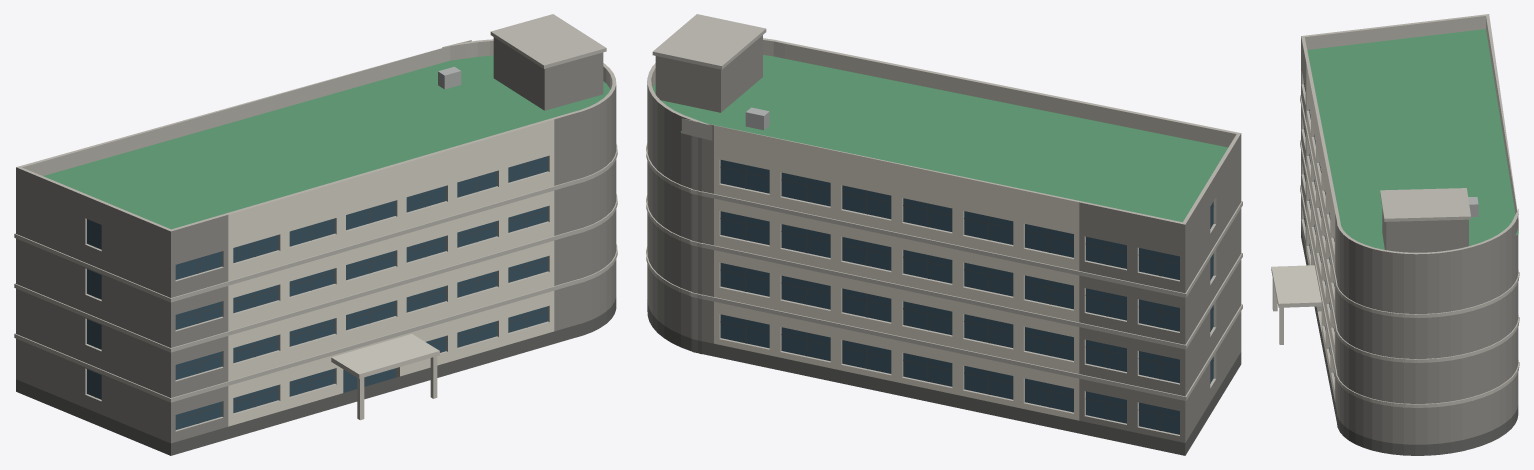
3 views of the same model, side by side, from view 1: azimuth 30°, elevation 25°; view 2: azimuth 150°, elevation 25°; view 3: azimuth 270°, elevation 25° (orthographic). The views are drawn at different scales.
Parts seen in each view (by area): view 1: wing6__brick, wing6__wall-plaster, wing6__roof, wing6__trim-concrete, wing6__glass, wing6__base-stone, wing6__canopy-concrete, wing6__frame; view 2: wing6__wall-plaster, wing6__brick, wing6__roof, wing6__glass, wing6__trim-concrete, wing6__base-stone, wing6__frame; view 3: wing6__brick, wing6__roof, wing6__trim-concrete, wing6__wall-plaster, wing6__base-stone, wing6__canopy-concrete.
Boxes of the visible parts, x1=… form: wing6__brick: x1=16, y1=37, x2=616, y2=443; wing6__wall-plaster: x1=228, y1=119, x2=554, y2=426; wing6__roof: x1=43, y1=55, x2=610, y2=229; wing6__trim-concrete: x1=14, y1=14, x2=617, y2=431; wing6__glass: x1=87, y1=156, x2=547, y2=429; wing6__base-stone: x1=16, y1=297, x2=616, y2=455; wing6__canopy-concrete: x1=331, y1=334, x2=439, y2=420; wing6__frame: x1=87, y1=162, x2=548, y2=423; wing6__wall-plaster: x1=714, y1=125, x2=1079, y2=420; wing6__brick: x1=647, y1=35, x2=1241, y2=442; wing6__roof: x1=653, y1=55, x2=1228, y2=222; wing6__glass: x1=720, y1=160, x2=1213, y2=434; wing6__trim-concrete: x1=646, y1=14, x2=1242, y2=435; wing6__base-stone: x1=647, y1=299, x2=1241, y2=455; wing6__frame: x1=720, y1=165, x2=1213, y2=430; wing6__brick: x1=1301, y1=36, x2=1518, y2=444; wing6__roof: x1=1307, y1=29, x2=1518, y2=249; wing6__trim-concrete: x1=1300, y1=14, x2=1519, y2=407; wing6__wall-plaster: x1=1306, y1=64, x2=1335, y2=402; wing6__base-stone: x1=1301, y1=227, x2=1518, y2=455; wing6__canopy-concrete: x1=1271, y1=265, x2=1322, y2=344.
Bounding box in the file's own units: 41.41 × 18.45 × 18.
